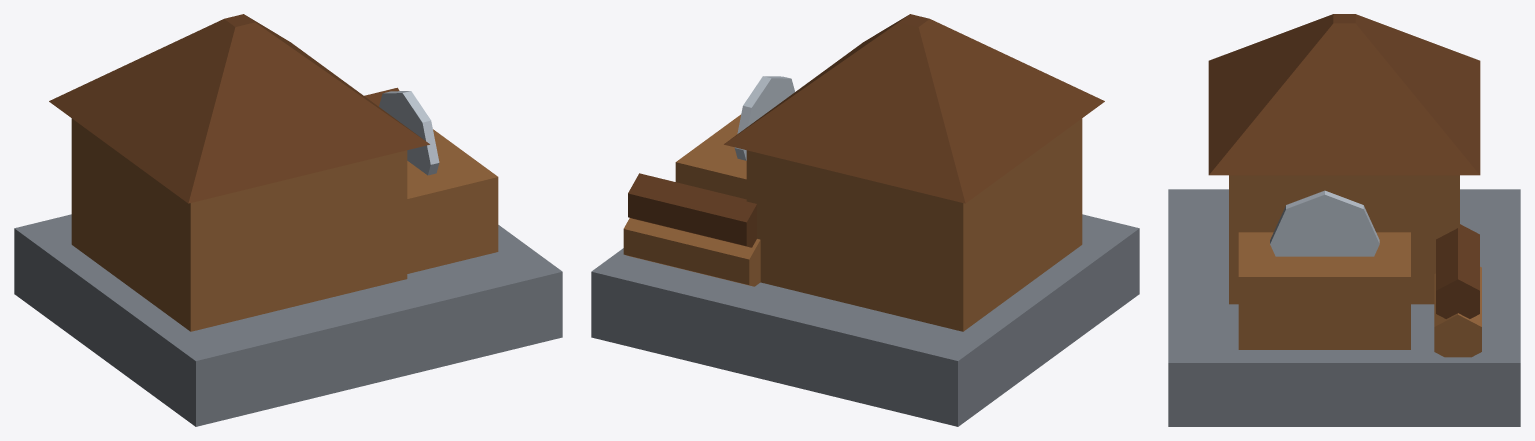
Rendered from sawmill.glb.
The picture shows the model from 3 angles, left to right: view 1: azimuth 30°, elevation 25°; view 2: azimuth 150°, elevation 25°; view 3: azimuth 270°, elevation 25°; orthographic projection. The views are drawn at different scales.
Parts seen in each view (by area): view 1: sawmill; view 2: sawmill; view 3: sawmill.
Boxes of the visible parts, x1,y1,x2,y2 form: sawmill: (14,14,562,426); sawmill: (591,14,1139,426); sawmill: (1168,14,1520,426).
Size of the model in its own units: 2.1 by 1.68 by 1.8.
